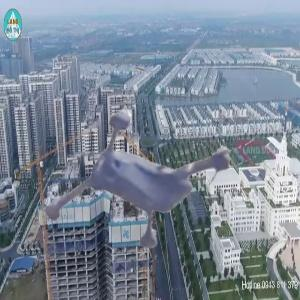drone: (56, 59, 268, 271)
